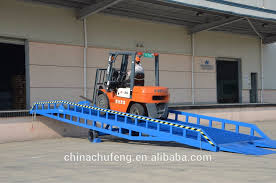Pallet Jack: (79, 51, 172, 122)
Yard Ramp: (30, 98, 276, 158)
